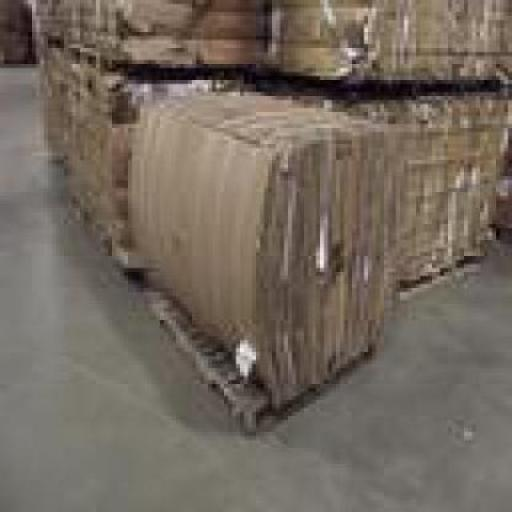cardboard: (128, 84, 388, 396), (280, 80, 508, 284), (128, 103, 276, 384), (40, 48, 236, 236), (268, 0, 508, 84), (31, 0, 264, 68)
